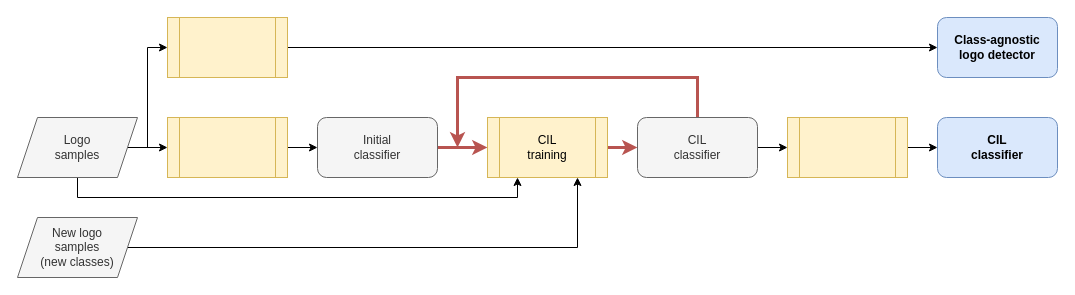
Image size: 1075x295. Some labels were removed from this diagram. Each missing label, with the centre of its shape:
Classifier training: point 227,147
Detector training: point 227,47
Model compression: point 847,147
